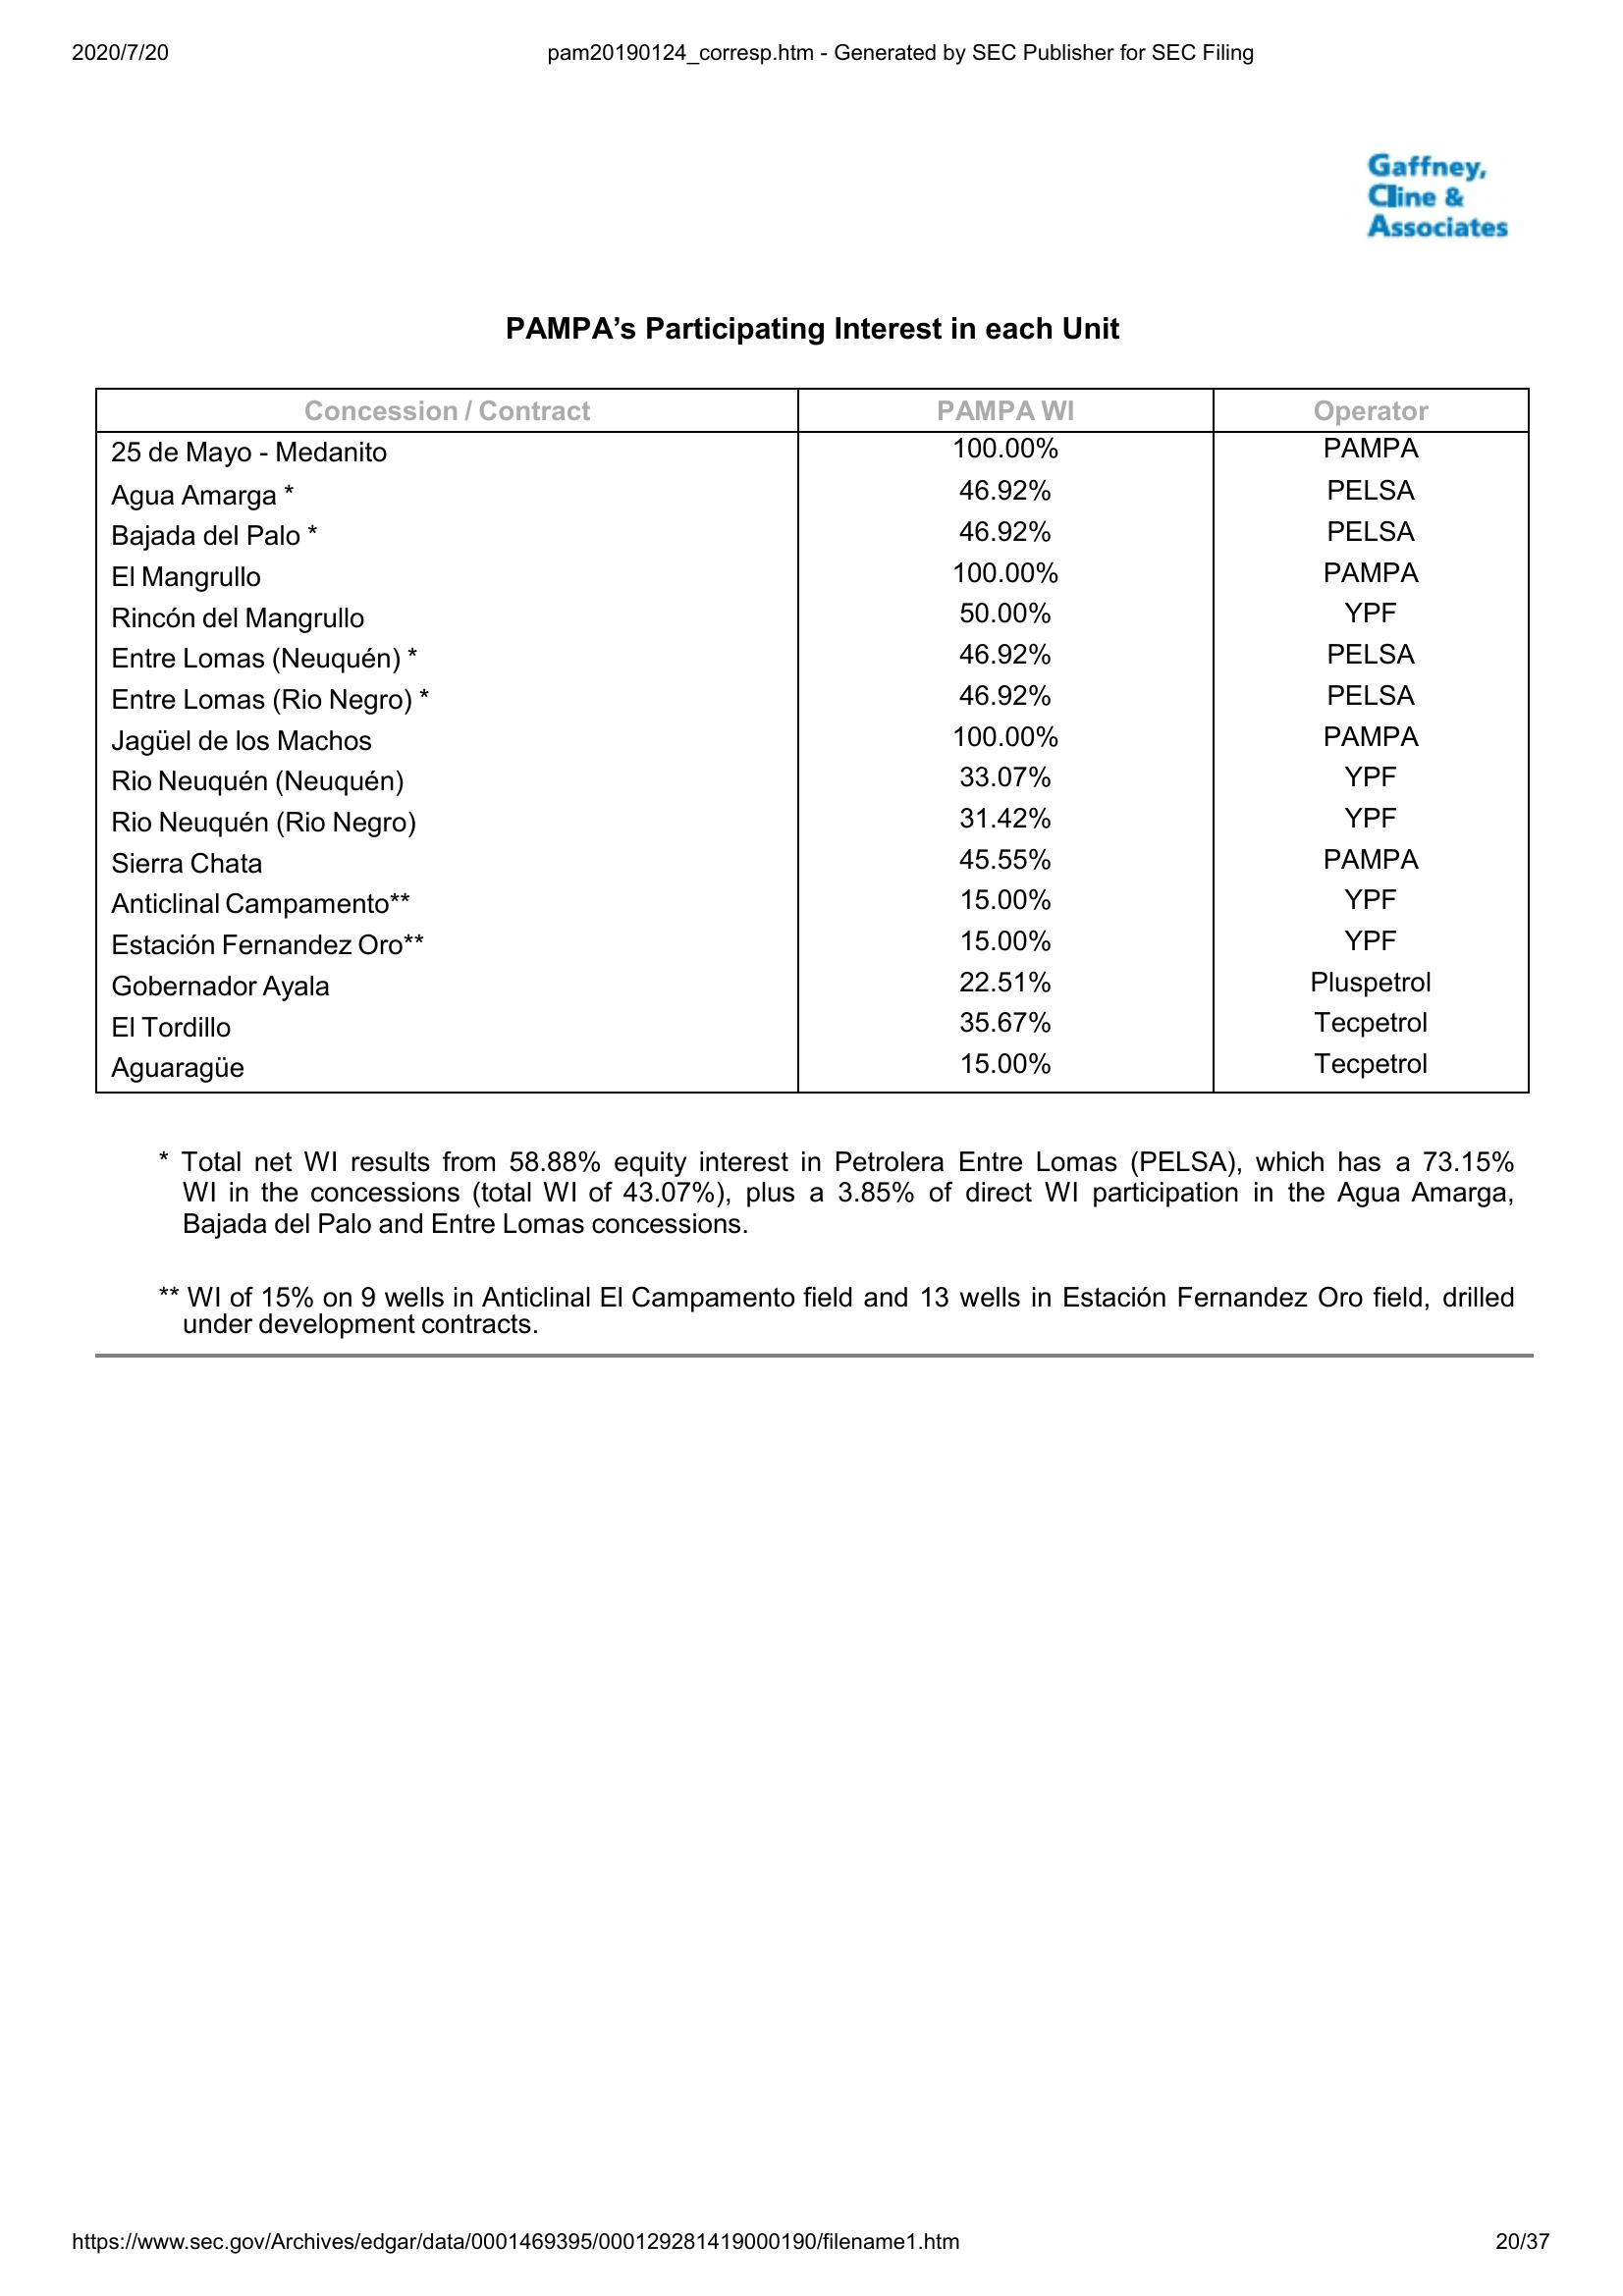table: (88, 379, 1535, 1101)
